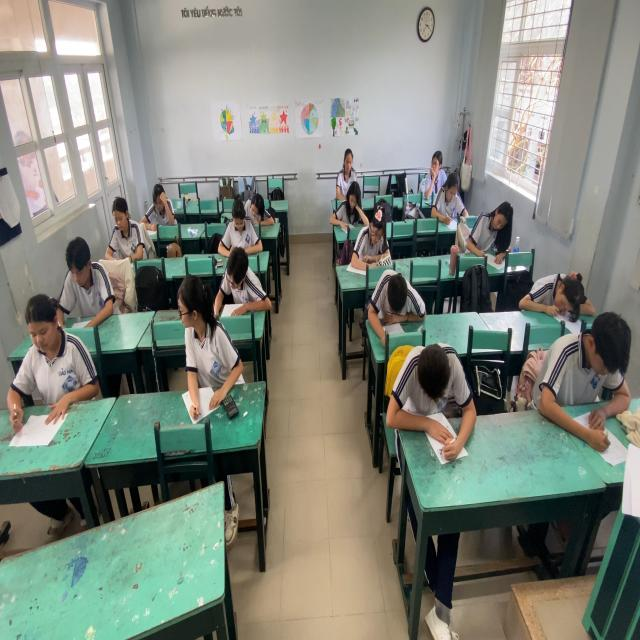cheating: (166, 268, 250, 374), (422, 150, 450, 192)
not_cheating: (8, 292, 90, 406), (538, 320, 634, 402), (397, 341, 477, 436), (63, 240, 117, 316), (368, 272, 426, 336), (218, 244, 274, 309), (524, 272, 589, 319), (224, 196, 265, 260), (466, 202, 520, 250), (438, 164, 480, 222), (357, 202, 393, 261), (111, 188, 141, 256), (143, 185, 177, 226), (243, 189, 270, 236), (335, 146, 362, 188), (340, 178, 364, 208)
